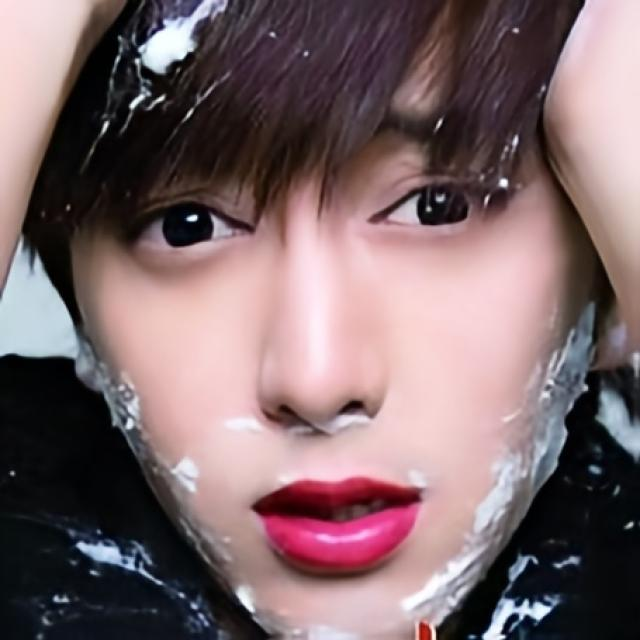surprise: (72, 0, 592, 640)
